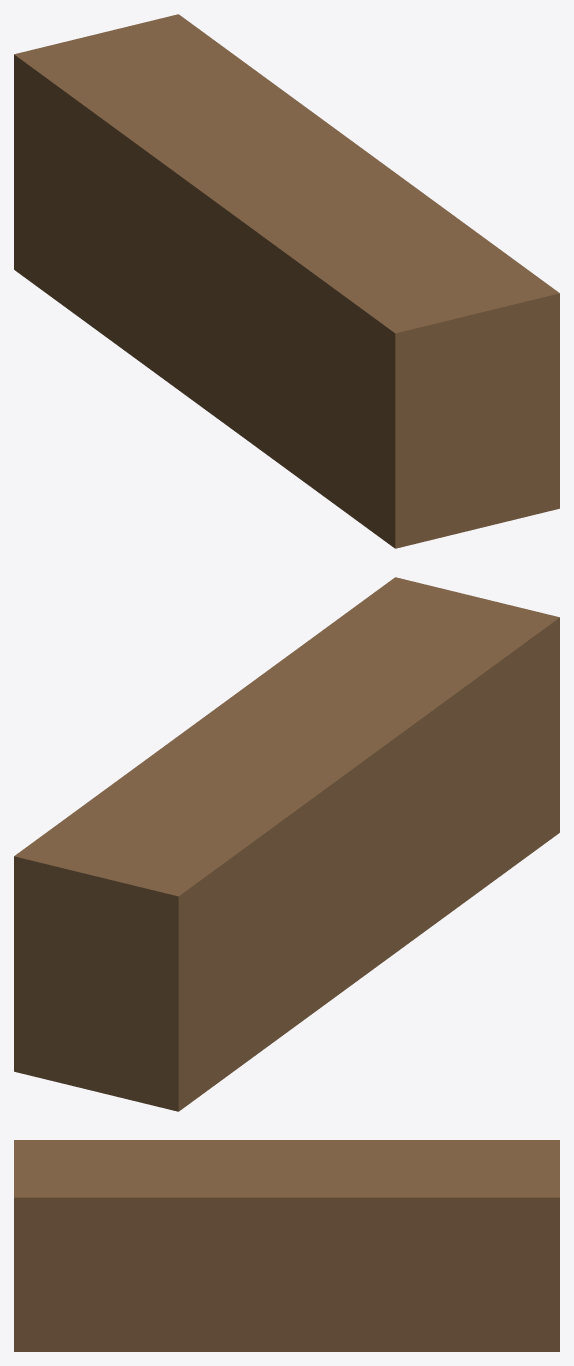
Rendered from porch-23.glb.
3 renders of one model, top to bottom at view 1: azimuth 30°, elevation 25°; view 2: azimuth 150°, elevation 25°; view 3: azimuth 270°, elevation 25°, orthographic. The views are drawn at different scales.
Bounding box in the file's own units: 1 × 1.25 × 4.01.
